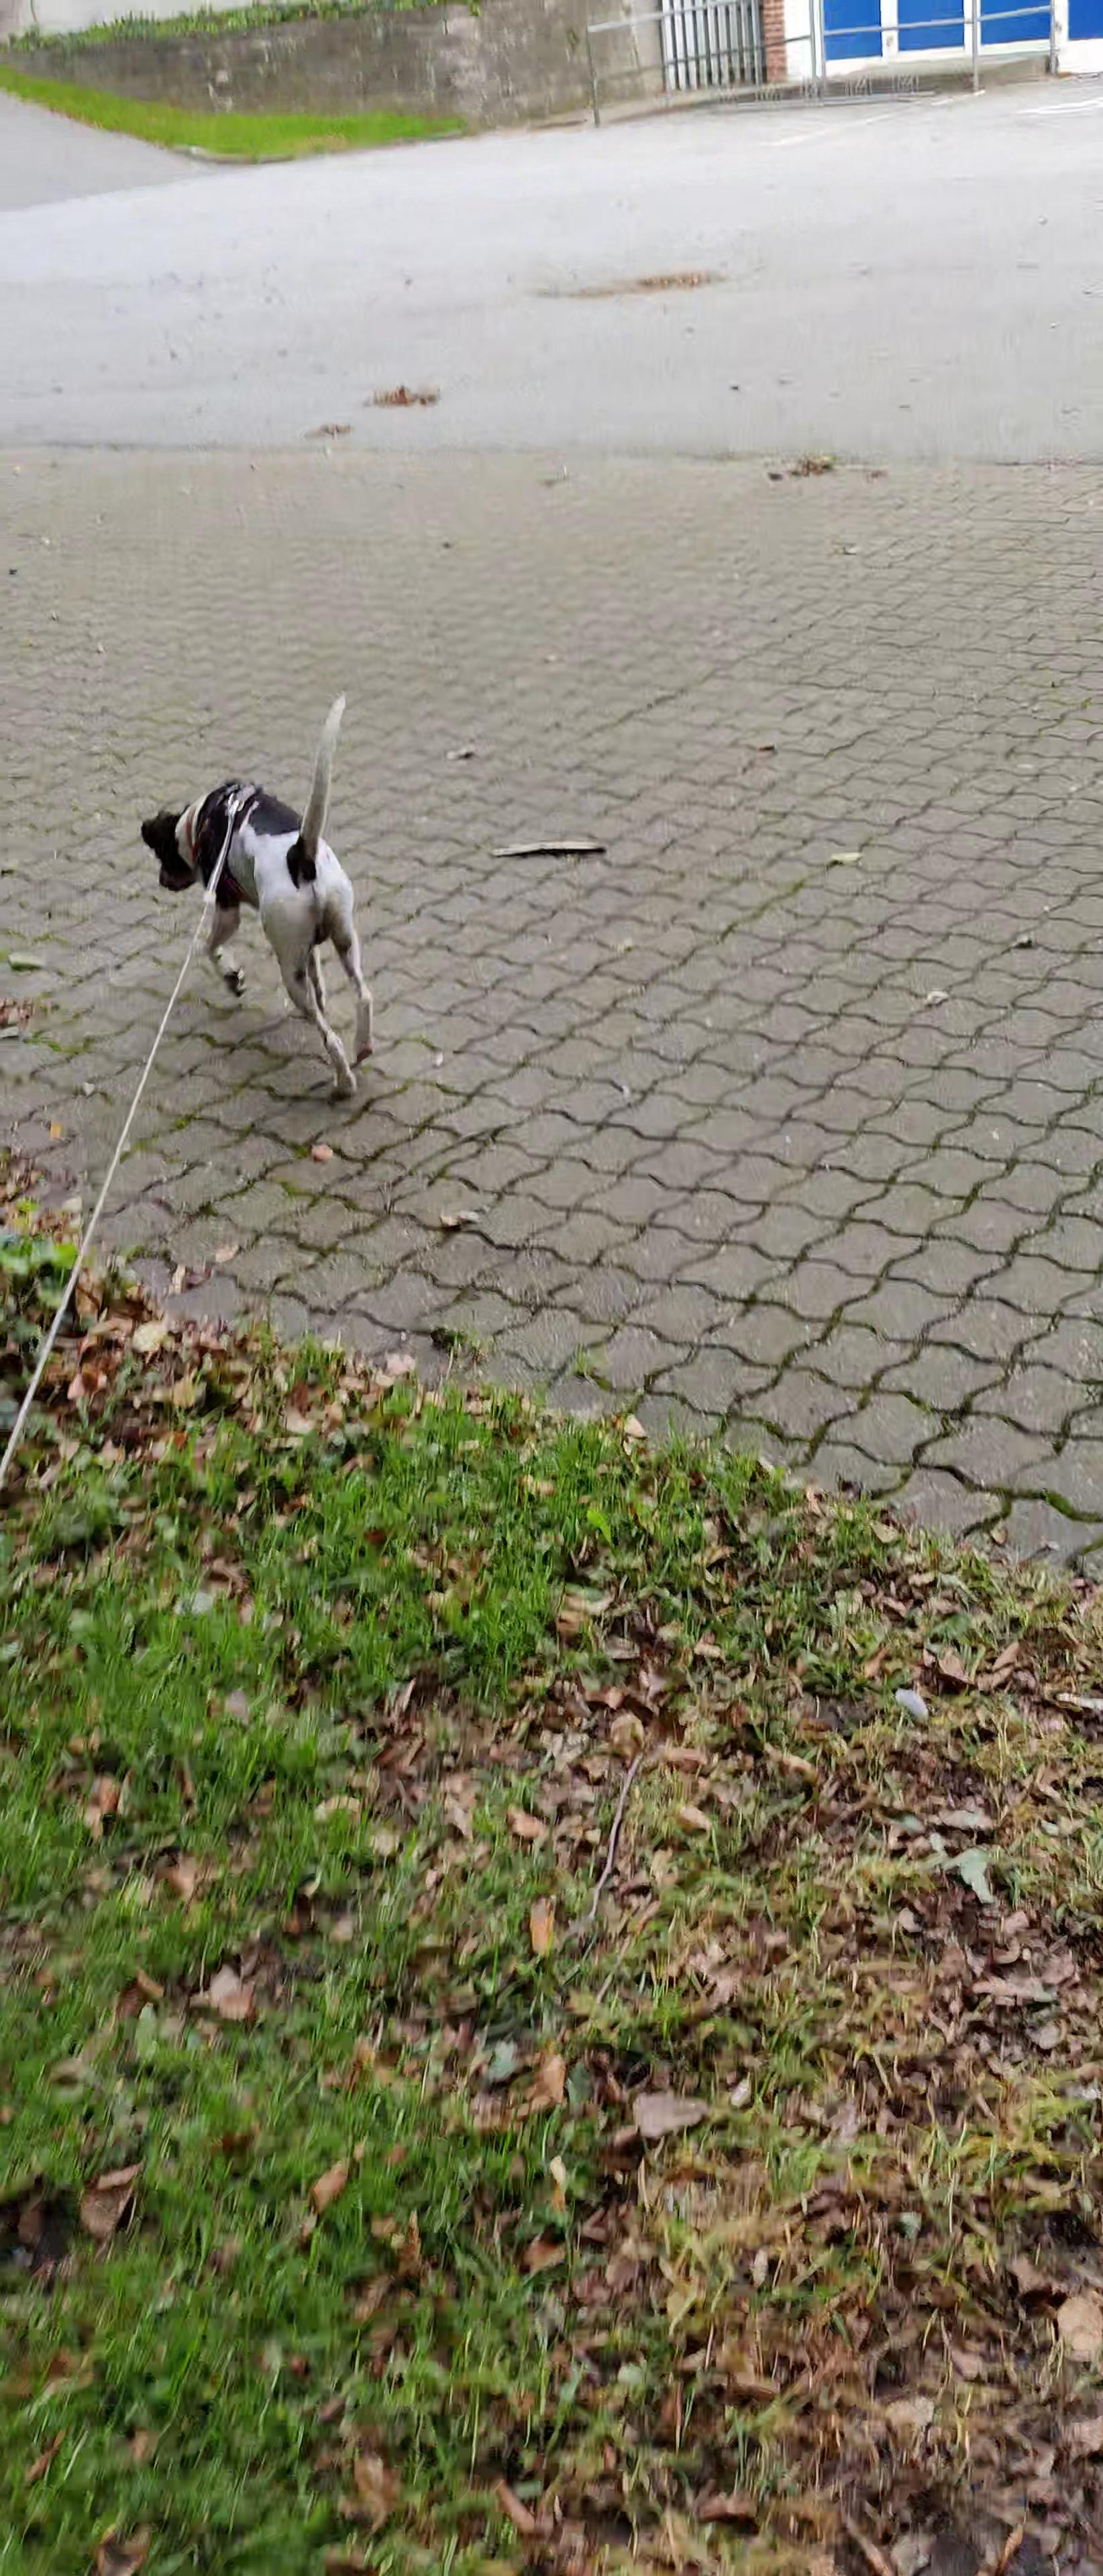Dog: (123, 683, 404, 1124)
